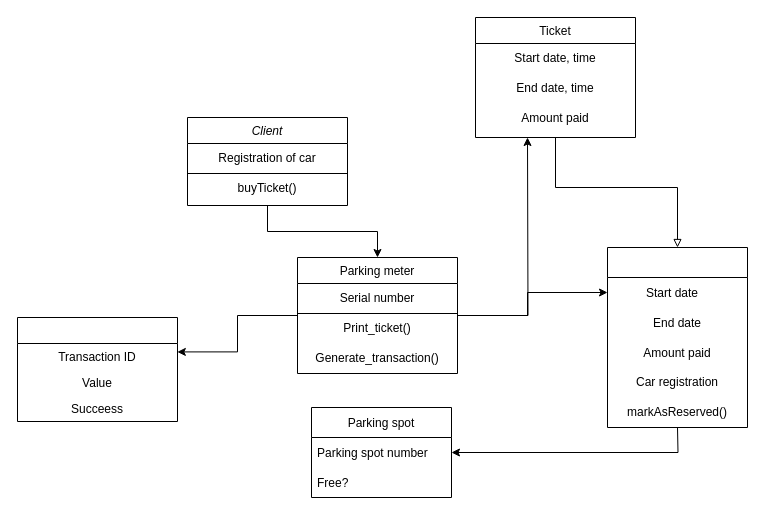
The diagram is 765 pixels wide and 515 high, and some of its shapes have lost their labels. Each missing label, with the box of its shape:
Cashless transaction: (16, 316, 178, 422)
Season ticket: (606, 246, 748, 428)
